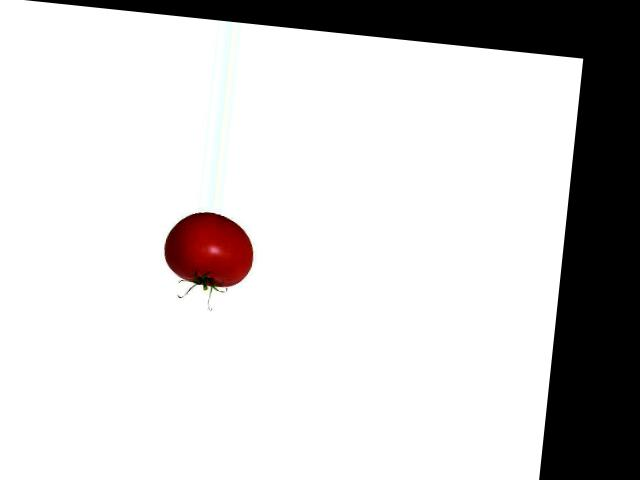tomato: (162, 208, 256, 289)
